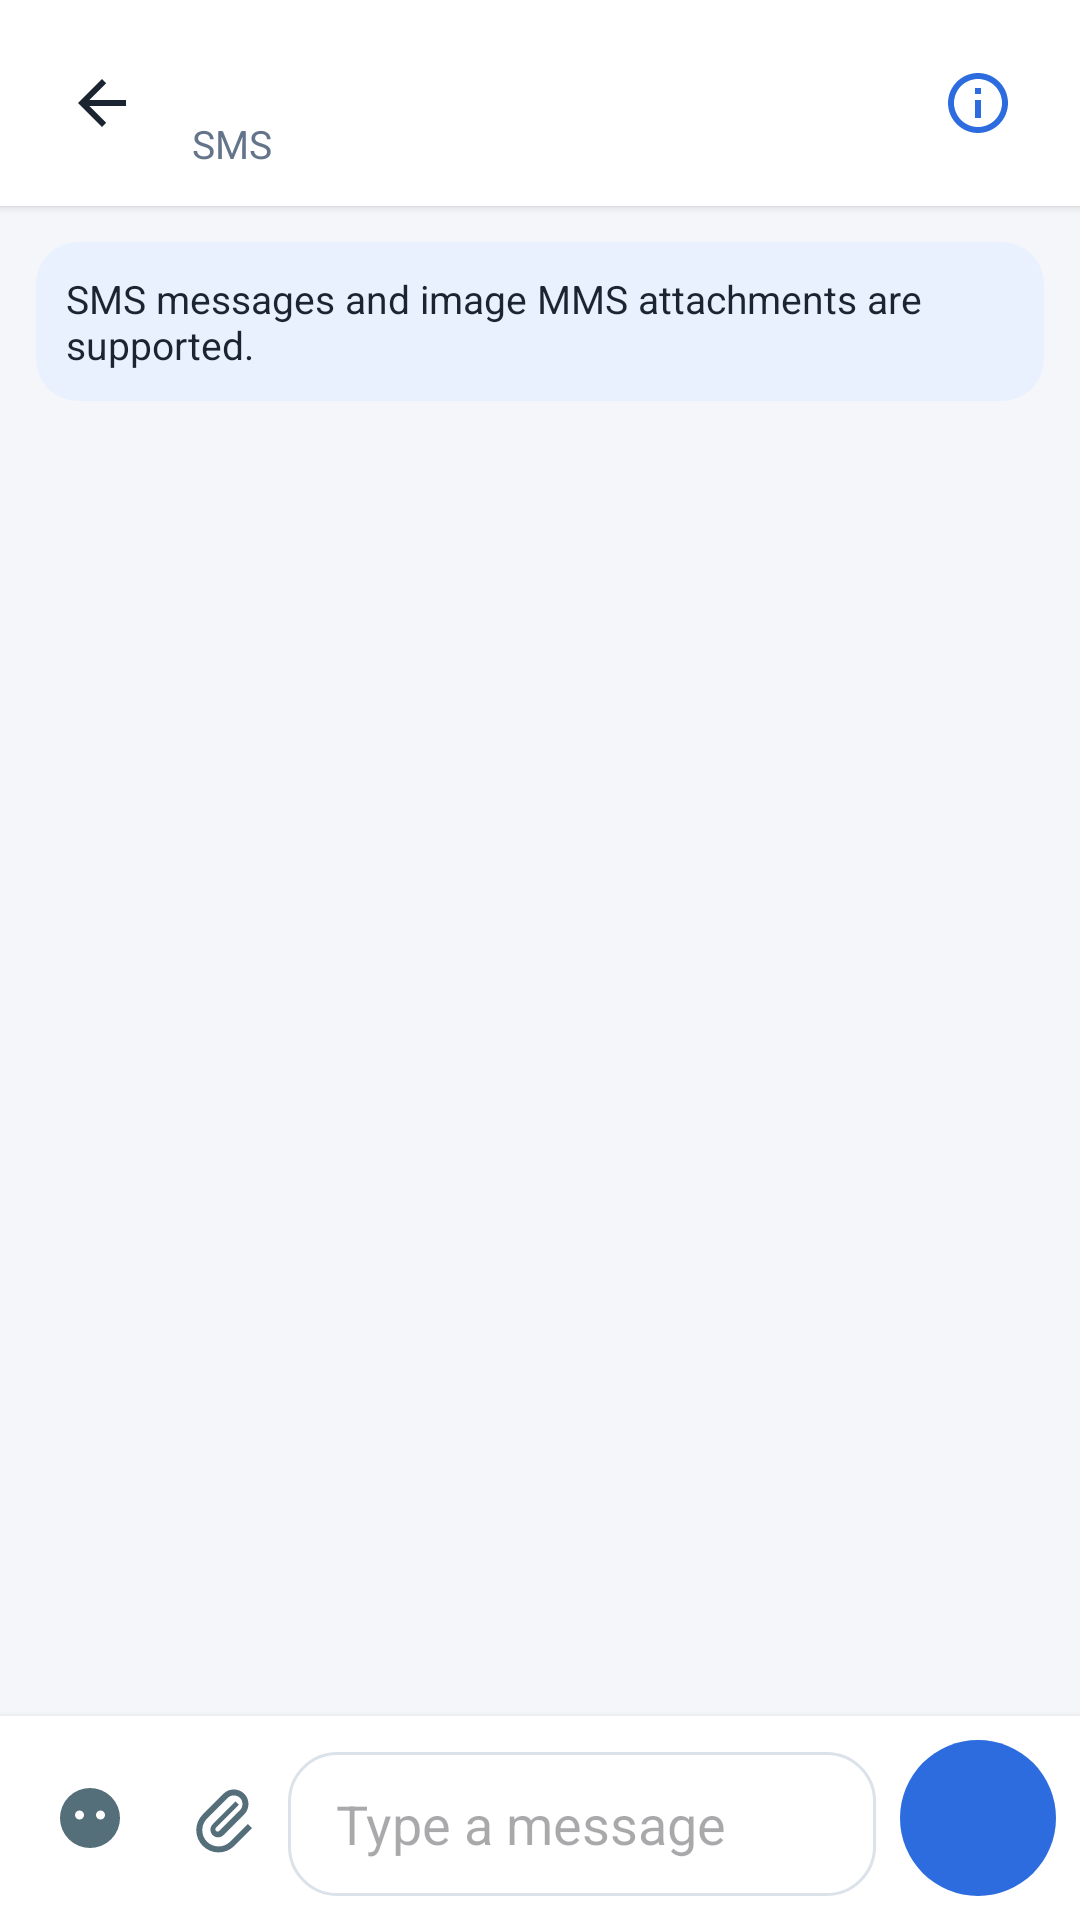

Locate icon controls on the screen. Image size 1080×1920, boxes as box(x1, y1, x2, y2).
Add image attachment: box(196, 1789, 252, 1853)
Back: box(78, 79, 126, 127)
